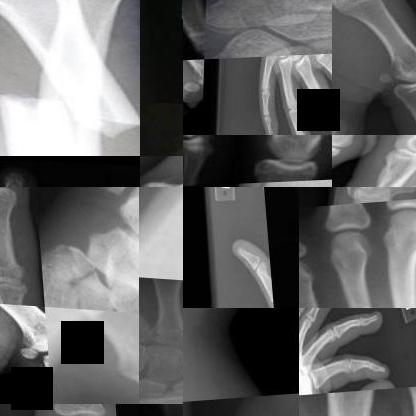fracture: (0, 73, 140, 147), (54, 263, 115, 307), (139, 379, 182, 404), (256, 397, 299, 415), (50, 404, 105, 411)
